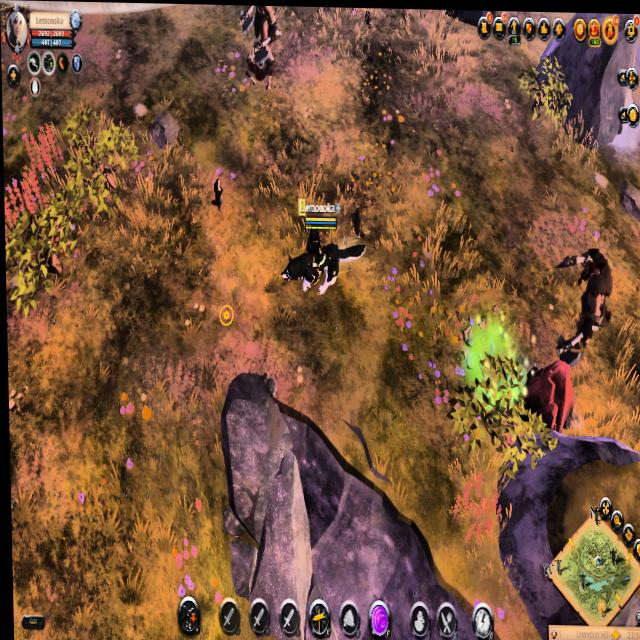rock tier 5: (524, 357, 576, 435)
